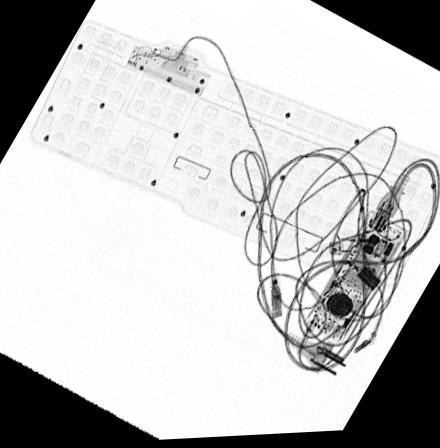Lighter: (327, 243, 394, 260)
